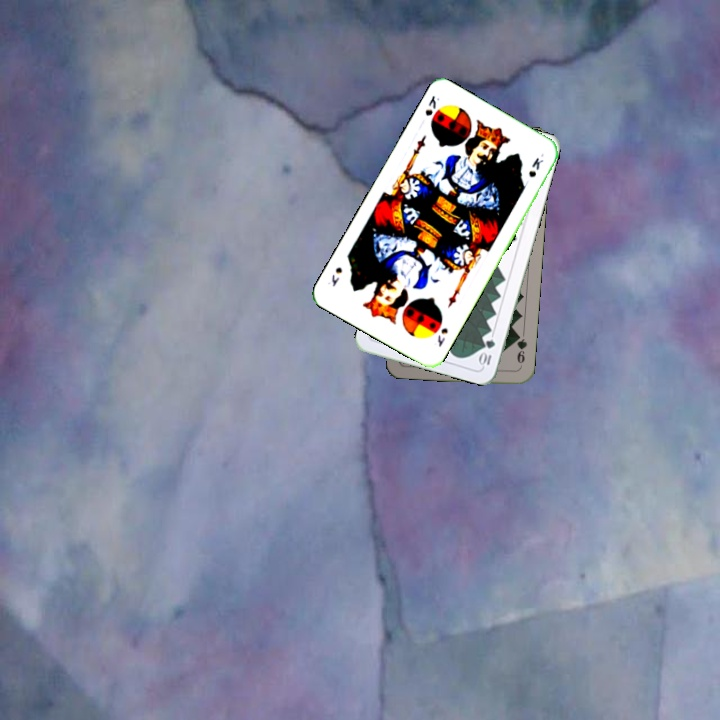G10: (476, 335, 498, 369)
G9: (512, 330, 529, 371)
SK: (421, 91, 442, 118), (433, 324, 451, 349)
